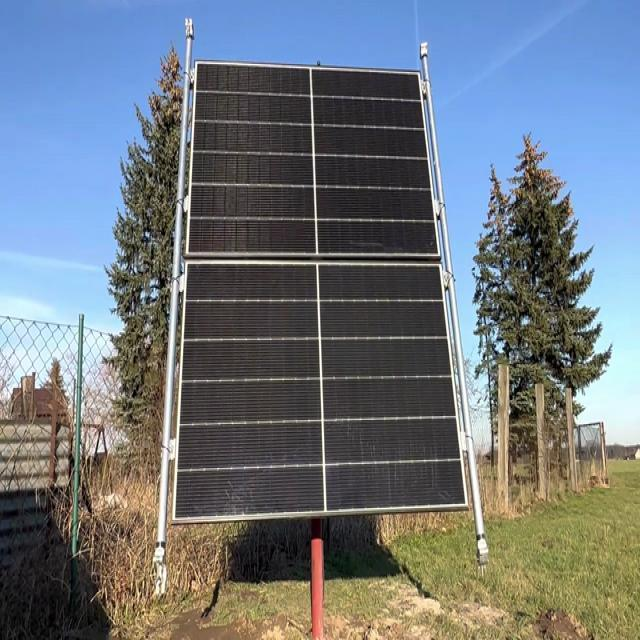Normal Solar Panel: (170, 61, 468, 524)
